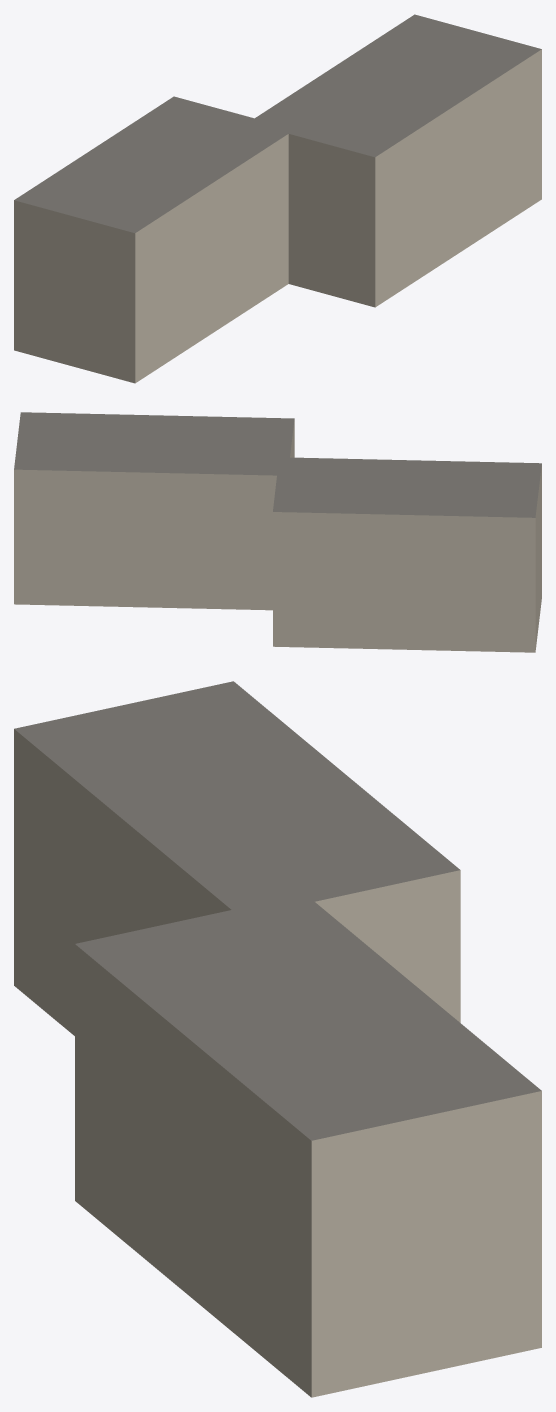
3 renders of one model, top to bottom at view 1: azimuth 30°, elevation 25°; view 2: azimuth 150°, elevation 25°; view 3: azimuth 270°, elevation 25°, orthographic. The views are drawn at different scales.
Visible parts, largest first — view 1: HP-w693448177; view 2: HP-w693448177; view 3: HP-w693448177.
Part boxes in pixels (x1,y1,x2,y2): HP-w693448177: [14, 14, 541, 383]; HP-w693448177: [14, 412, 541, 652]; HP-w693448177: [14, 681, 541, 1397].
Bounding box in the file's own units: 69.06 × 18 × 33.53.
